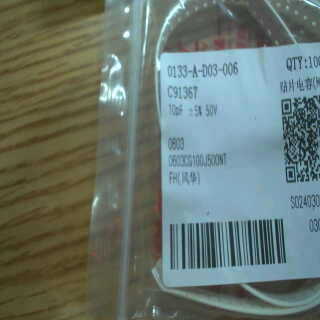10pF: (165, 103, 185, 116)
